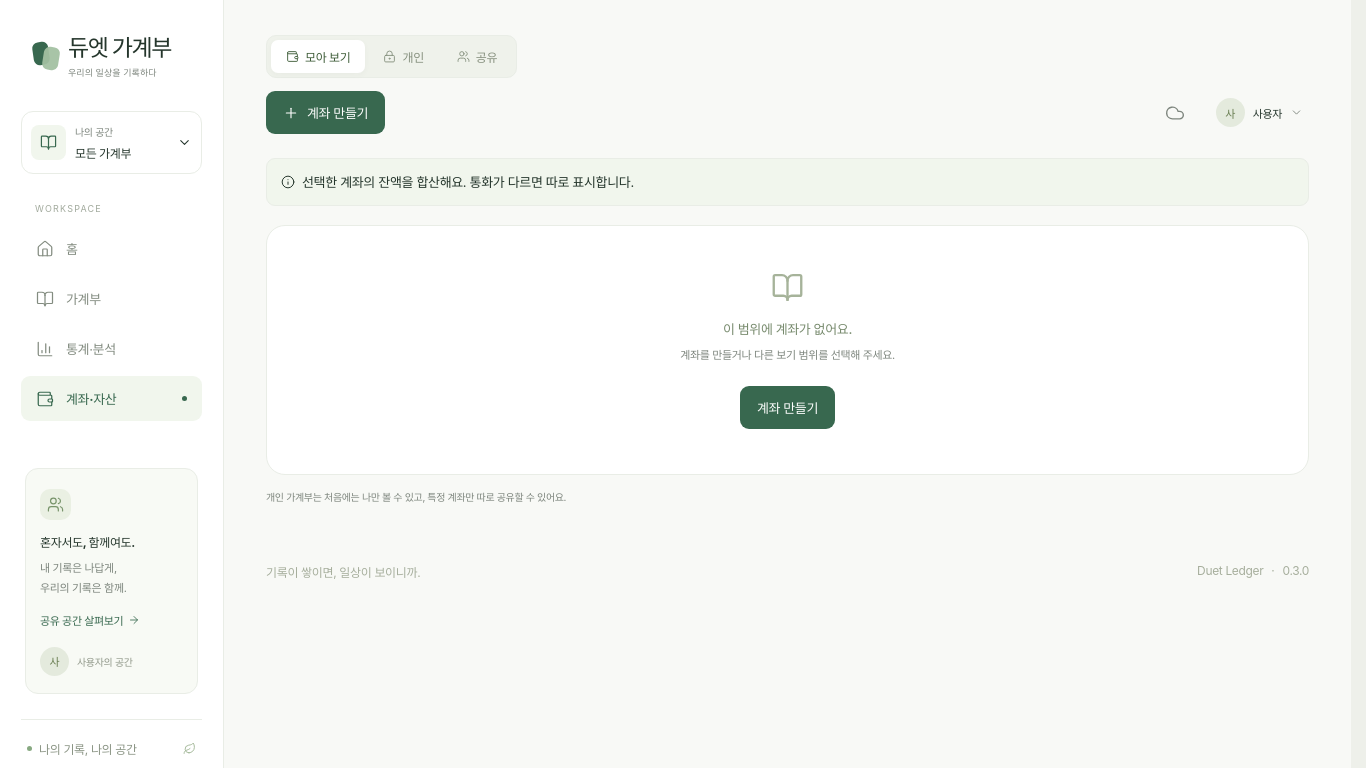
keeps account creation beside the ledger and profile controls when mobile titles are hidden
Check: the element with class "mobile-account-create" is shown, box x1=266 y1=91 x2=1309 y2=134
Check: the element with class "header-right" is shown, box x1=1157 y1=94 x2=1309 y2=130
Step 1. Click the button with class "mobile-account-create" → [326, 112], box x1=266 y1=91 x2=385 y2=134
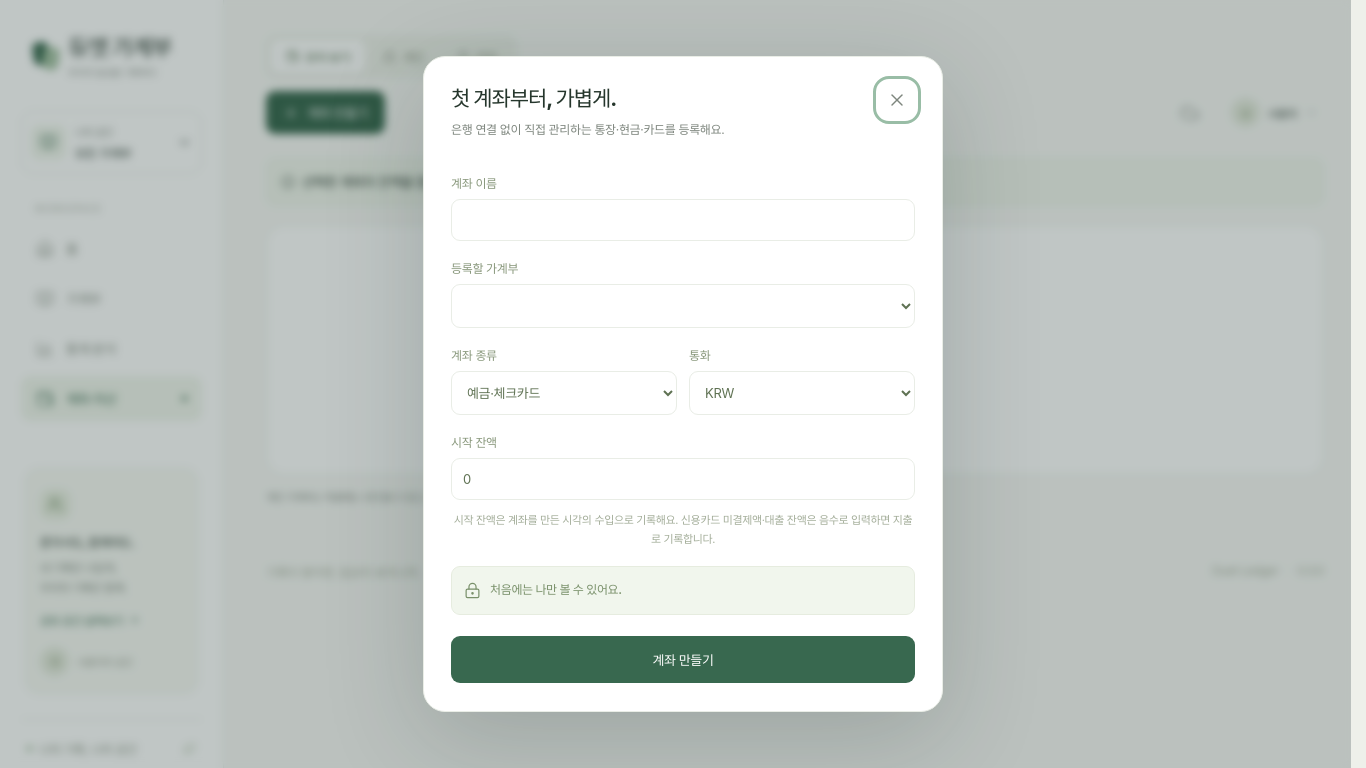
Check: the dialog is shown, box x1=423 y1=56 x2=943 y2=712
